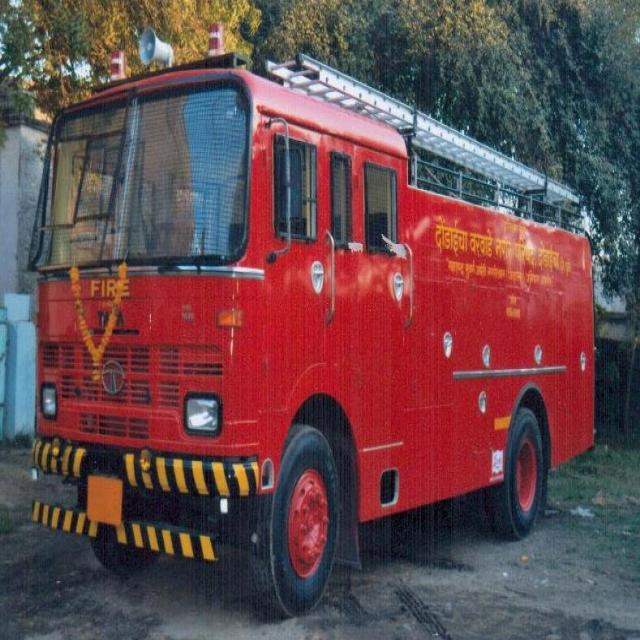emergency: (30, 57, 594, 614)
